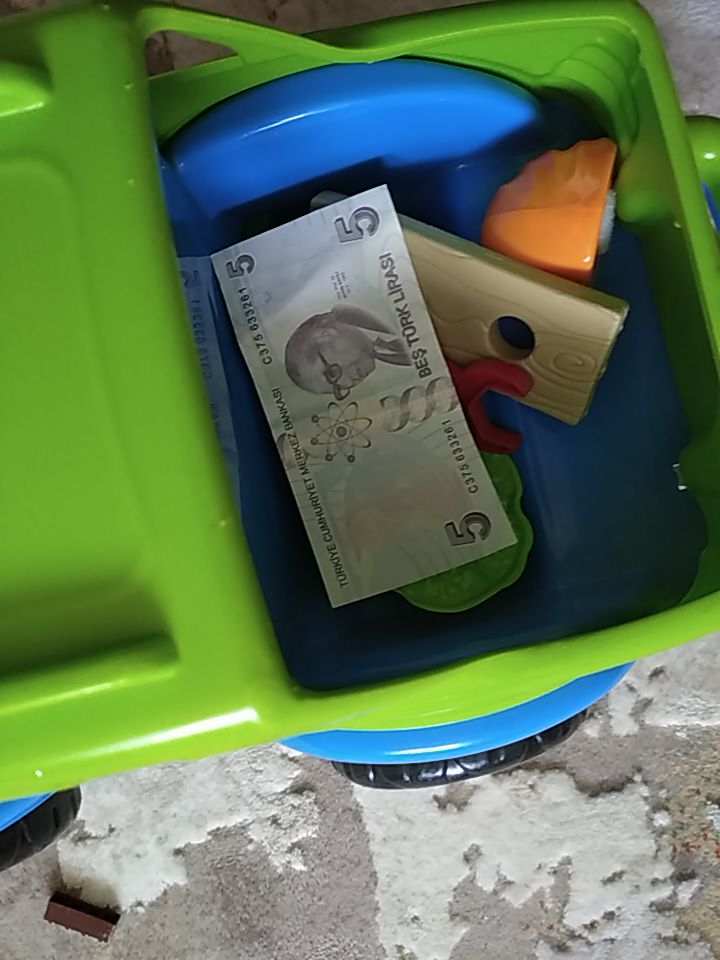5TL: (209, 180, 518, 608)
